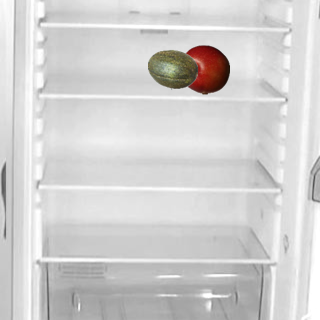Apple Braeburn: (179, 44, 229, 94)
Melon Piel de Sapo: (147, 44, 197, 94)
